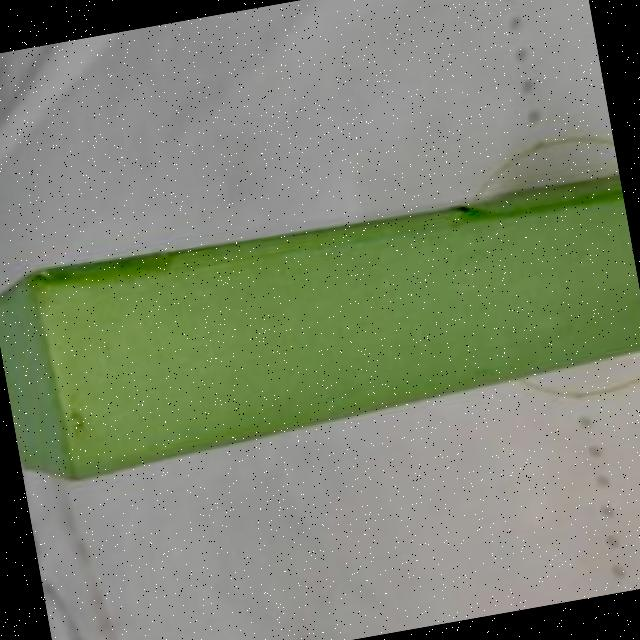greenbox: (0, 162, 640, 485)
